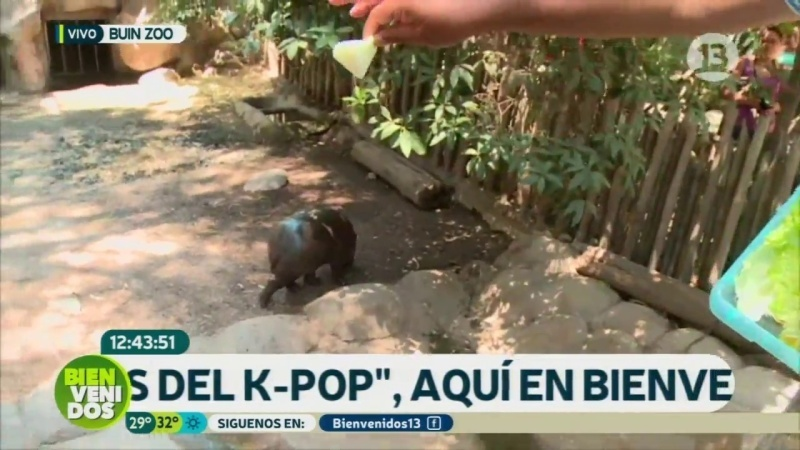hipopotamo: (235, 182, 382, 313)
